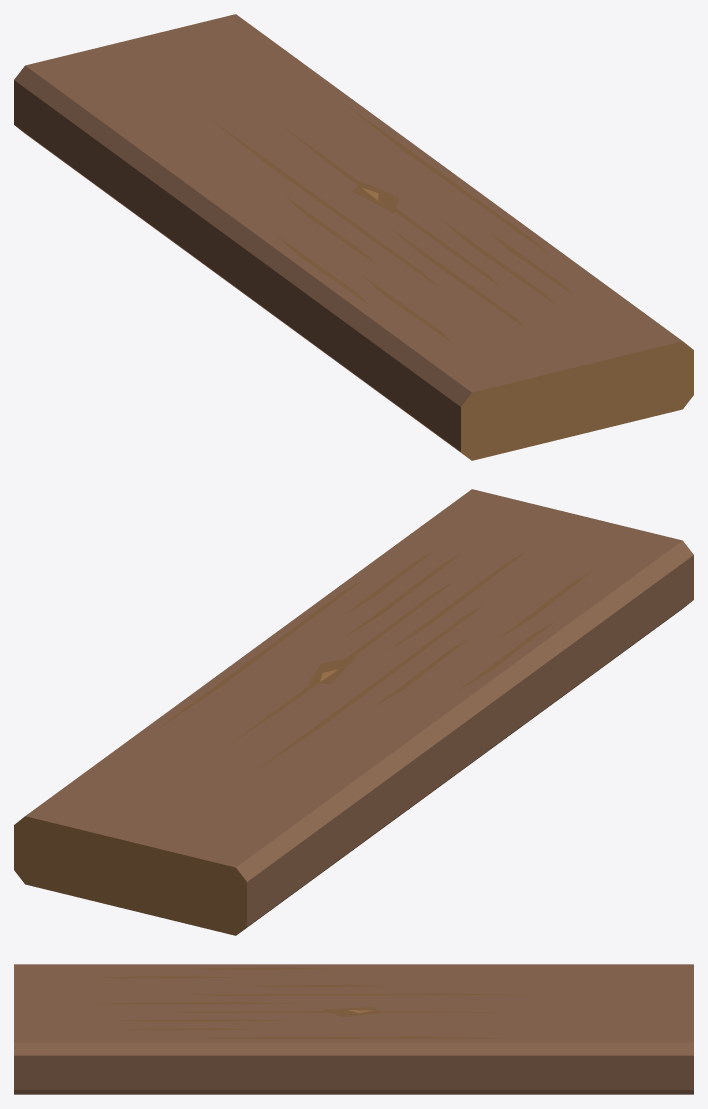
The model's file is Plank_Dark.glb.
The picture shows the model from 3 angles, top to bottom: view 1: azimuth 30°, elevation 25°; view 2: azimuth 150°, elevation 25°; view 3: azimuth 270°, elevation 25°; orthographic projection. The views are drawn at different scales.
Parts seen in each view (by area): view 1: Plank_Dark; view 2: Plank_Dark; view 3: Plank_Dark.
Boxes of the visible parts, <box> form: Plank_Dark: <box>14,14,693,460</box>; Plank_Dark: <box>14,489,693,935</box>; Plank_Dark: <box>14,964,693,1094</box>.
Size of the model in its own units: 0.25 by 0.071 by 0.83.
